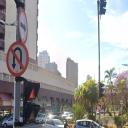NoVirarEsquerda: (96, 102, 102, 111)
NoVirarU: (6, 40, 30, 77)
